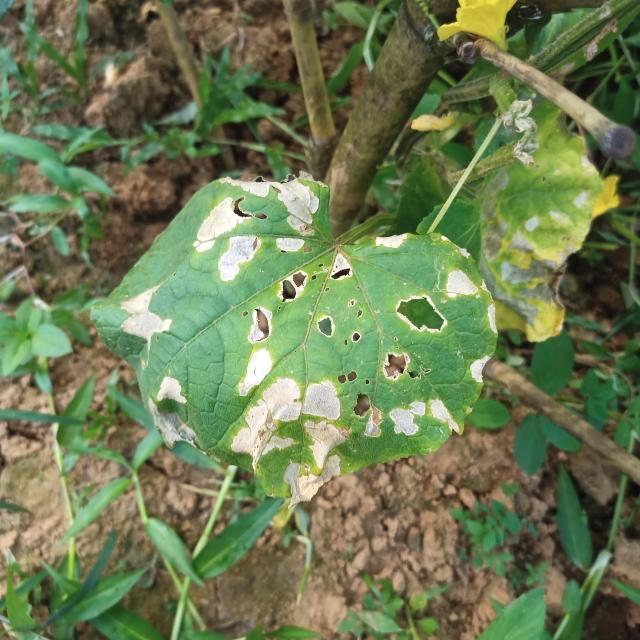disease_cucumber: (109, 187, 496, 500)
